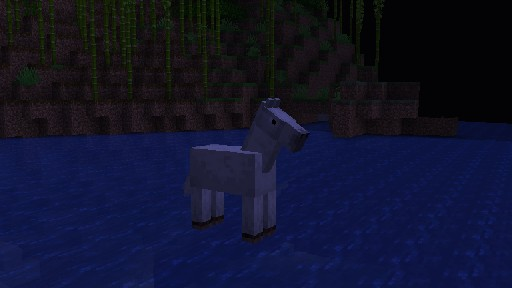horse: (181, 97, 309, 243)
